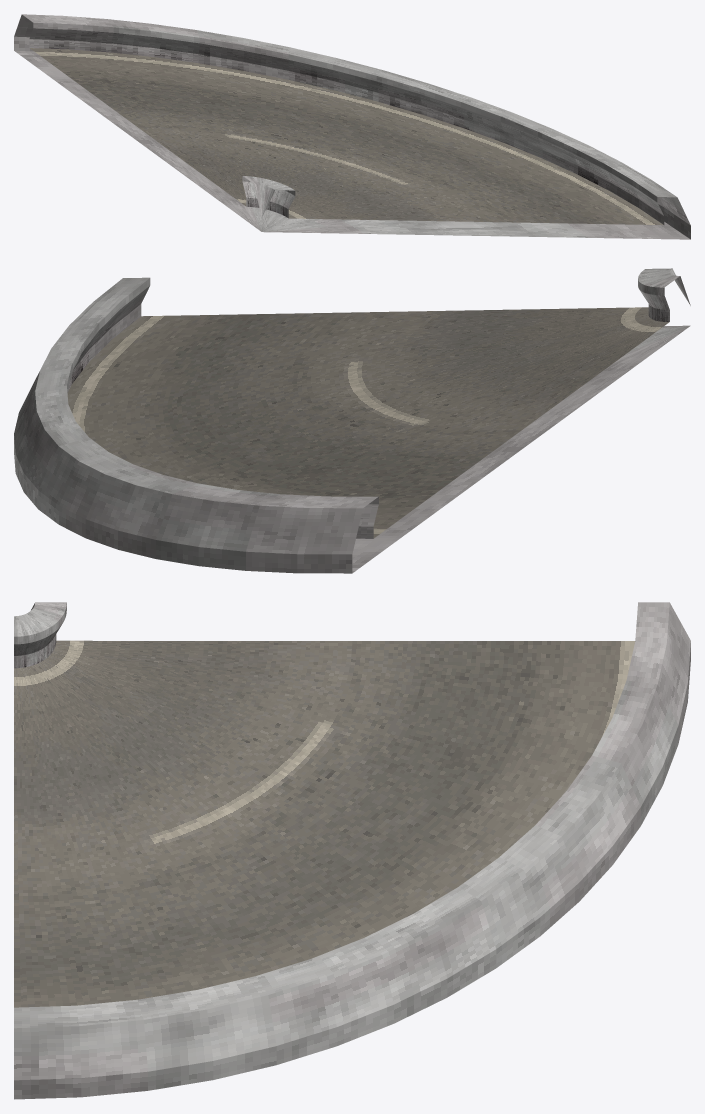
File: turn-left1x1.glb
The picture shows the model from 3 angles, top to bottom: view 1: azimuth 30°, elevation 25°; view 2: azimuth 150°, elevation 25°; view 3: azimuth 270°, elevation 25°; orthographic projection. The views are drawn at different scales.
Parts seen in each view (by area): view 1: road-Turn-HalfBankedRight-BiSlopeUp-Up1-Left-Size1; view 2: road-Turn-HalfBankedRight-BiSlopeUp-Up1-Left-Size1; view 3: road-Turn-HalfBankedRight-BiSlopeUp-Up1-Left-Size1.
Boxes of the visible parts, x1,y1,x2,y2 form: road-Turn-HalfBankedRight-BiSlopeUp-Up1-Left-Size1: (14, 14, 690, 239); road-Turn-HalfBankedRight-BiSlopeUp-Up1-Left-Size1: (14, 268, 690, 573); road-Turn-HalfBankedRight-BiSlopeUp-Up1-Left-Size1: (14, 602, 690, 1099).
Size of the model in its own units: 1 by 0.3437 by 1.
2 materials, 2 textured.
